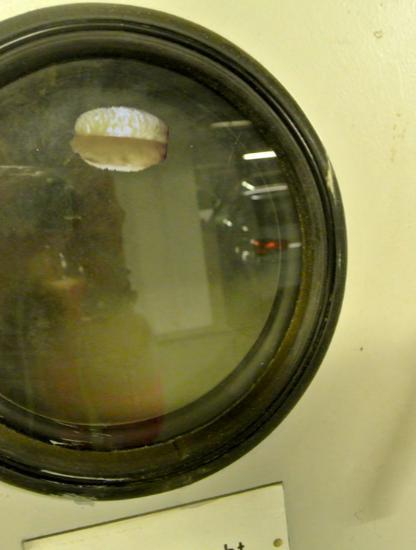Carambula: (70, 90, 169, 189)
